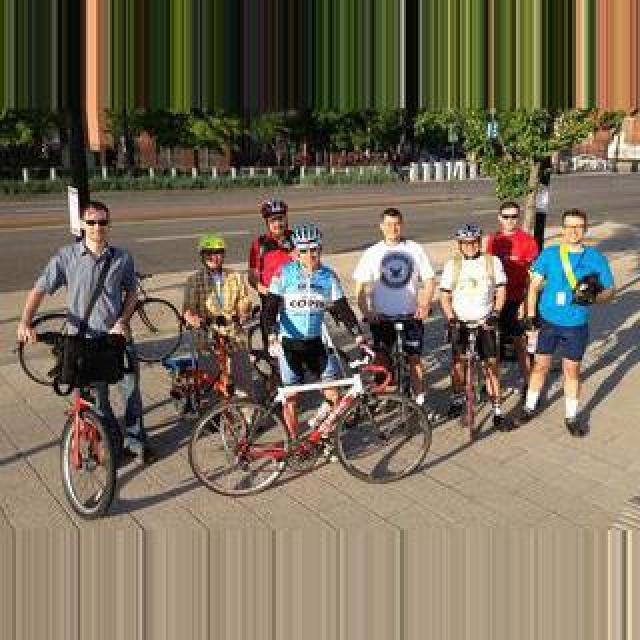MC-Bike: (16, 196, 150, 482), (256, 220, 368, 464), (516, 210, 616, 434), (352, 206, 438, 406), (436, 224, 506, 430), (246, 200, 300, 410), (486, 200, 540, 408), (178, 234, 254, 340)
Person: (188, 336, 432, 498), (24, 328, 132, 518), (18, 270, 182, 388), (448, 316, 504, 442)
